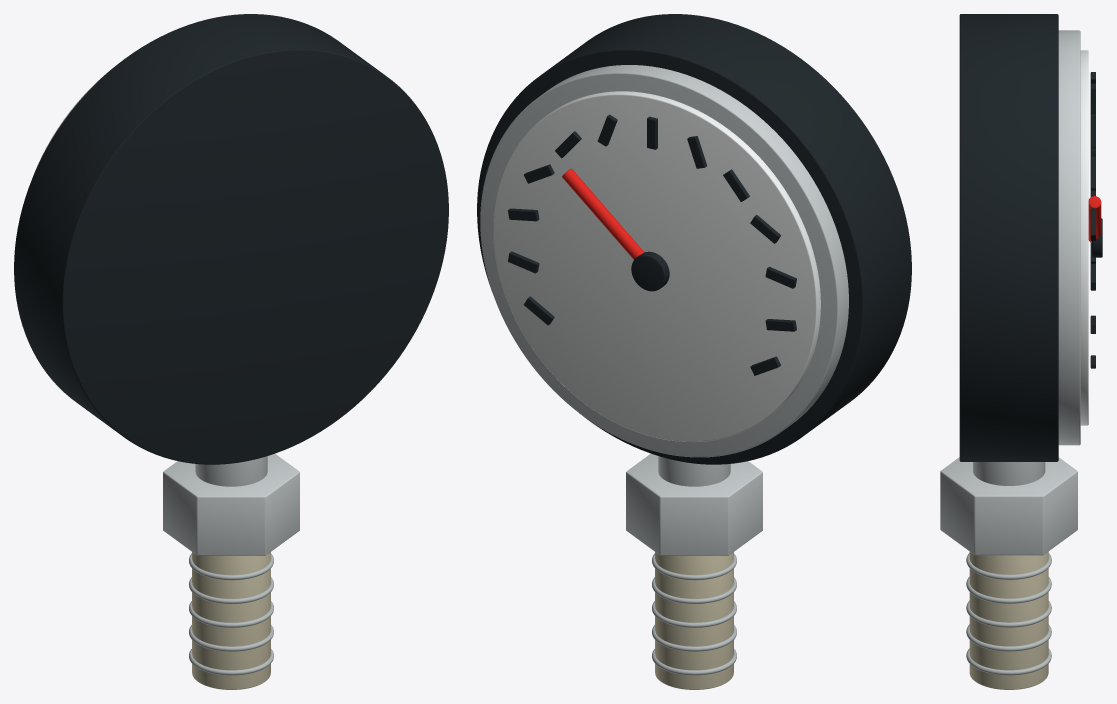
File: analog_pressure_gauge.glb
The picture shows the model from 3 angles, left to right: view 1: azimuth 30°, elevation 25°; view 2: azimuth 150°, elevation 25°; view 3: azimuth 270°, elevation 25°; orthographic projection.
Parts seen in each view (by area): view 1: GAUGE_case, HEX_process_fitting, PROCESS_thread, PROCESS_stem; view 2: GAUGE_dial, GAUGE_case, GAUGE_bezel, HEX_process_fitting, PROCESS_thread, PROCESS_stem, POINTER, POINTER_hub; view 3: GAUGE_case, HEX_process_fitting, GAUGE_bezel, PROCESS_thread, GAUGE_dial, PROCESS_stem, THREAD_0.12, THREAD_0.08, THREAD_0.24, THREAD_0.16, THREAD_0.2, POINTER.
Boxes of the visible parts, left/top/right/bottom form: GAUGE_case: left=14, top=14, right=448, bottom=464; HEX_process_fitting: left=163, top=453, right=299, bottom=555; PROCESS_thread: left=192, top=552, right=270, bottom=689; PROCESS_stem: left=195, top=456, right=267, bottom=486; GAUGE_dial: left=493, top=91, right=820, bottom=442; GAUGE_case: left=477, top=14, right=911, bottom=464; GAUGE_bezel: left=480, top=65, right=848, bottom=457; HEX_process_fitting: left=626, top=453, right=762, bottom=555; PROCESS_thread: left=655, top=552, right=733, bottom=689; PROCESS_stem: left=658, top=456, right=730, bottom=486; POINTER: left=562, top=168, right=644, bottom=259; POINTER_hub: left=631, top=251, right=669, bottom=291; GAUGE_case: left=959, top=14, right=1058, bottom=461; HEX_process_fitting: left=940, top=457, right=1077, bottom=555; GAUGE_bezel: left=1058, top=30, right=1080, bottom=445; PROCESS_thread: left=969, top=551, right=1048, bottom=689; GAUGE_dial: left=1080, top=50, right=1088, bottom=425; PROCESS_stem: left=973, top=462, right=1045, bottom=485; THREAD_0.12: left=966, top=624, right=1051, bottom=651; THREAD_0.08: left=966, top=648, right=1051, bottom=675; THREAD_0.24: left=966, top=553, right=1051, bottom=579; THREAD_0.16: left=966, top=600, right=1051, bottom=627; THREAD_0.2: left=966, top=577, right=1051, bottom=603; POINTER: left=1088, top=196, right=1101, bottom=242.
Bounding box in the file's own units: 0.68 × 1.07 × 0.2464.
